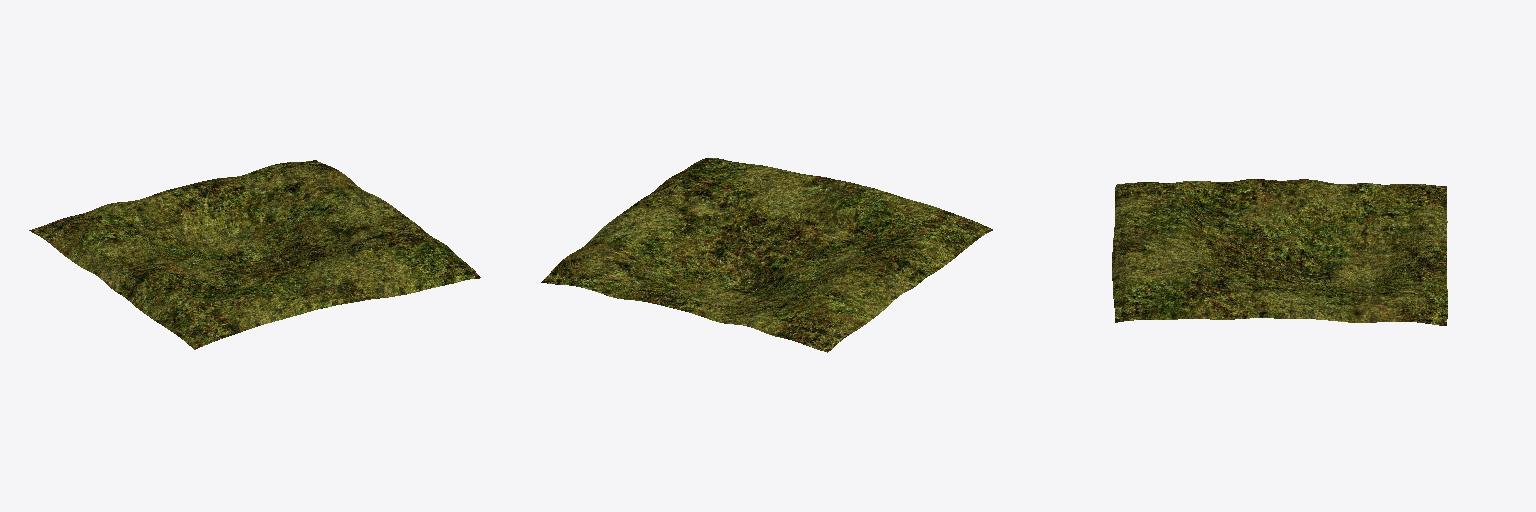
3 views of the same model, side by side, from view 1: azimuth 30°, elevation 25°; view 2: azimuth 150°, elevation 25°; view 3: azimuth 270°, elevation 25° (orthographic).
Visible parts, largest first — view 1: pPlane1; view 2: pPlane1; view 3: pPlane1.
Part boxes in pixels (x1,y1,x2,y2): pPlane1: (29, 160, 480, 349); pPlane1: (541, 158, 992, 352); pPlane1: (1112, 179, 1447, 325).
Bounding box in the file's own units: 34.07 × 4.76 × 34.13.
Materials: 1 (1 with a texture image).